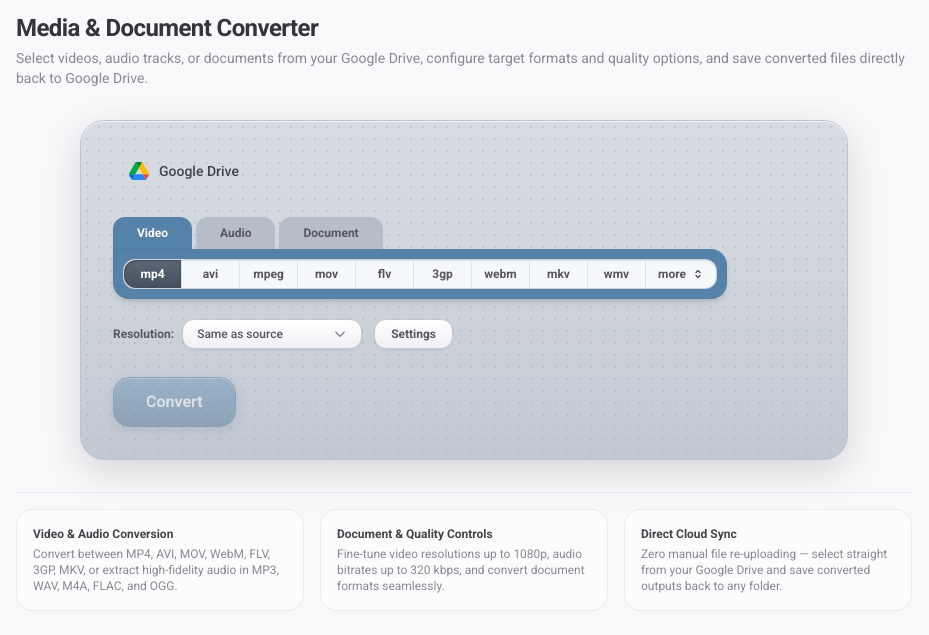
Scenario: ConverterPage & ConverterPanel › selects 3gp format, defaults to 176x144, and shows 3gp specific mobile resolutions
The width and height of the screenshot is (929, 635).
# Click 3gp button
Click the button "3gp": (443, 274) 414,260 -> 472,288
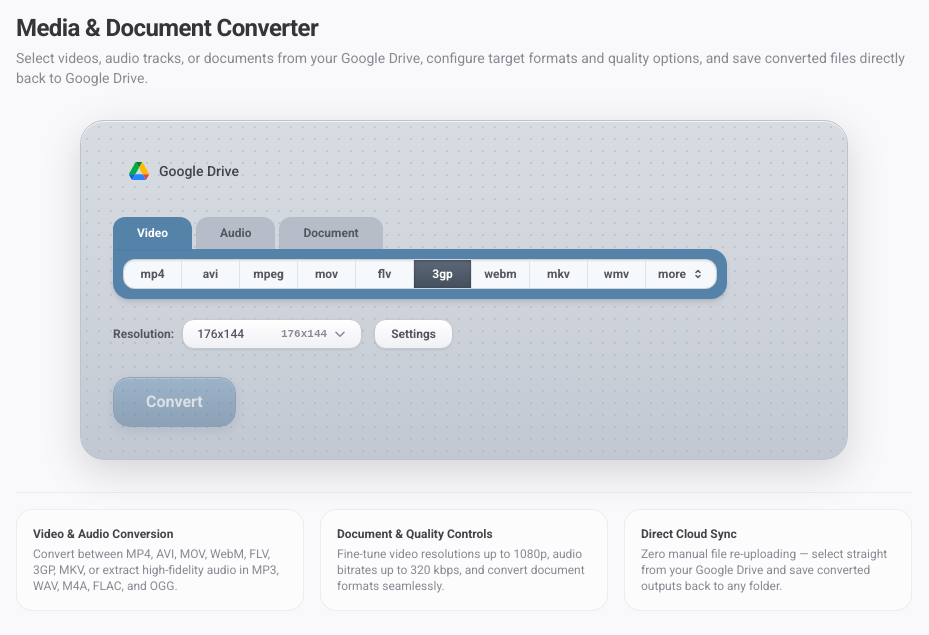
# Open resolution dropdown
Click the 1st text "176x144": (221, 334) 197,326 -> 244,342
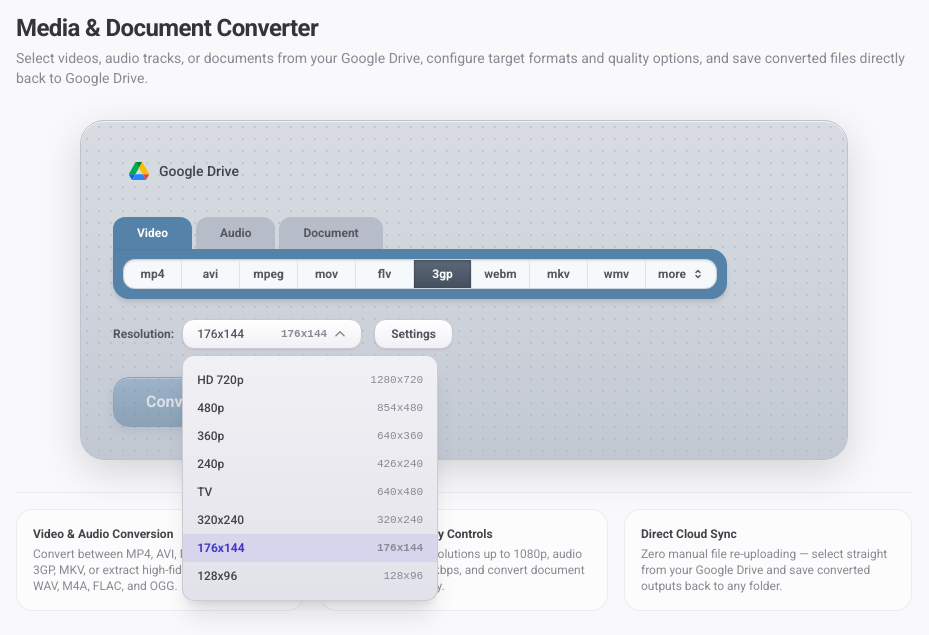
Expected: the text "HD 720p" is shown, 197,372 -> 244,388
Expected: the text "1280x720" is shown, 370,372 -> 423,388
Expected: the text "480p" is shown, 197,400 -> 224,416
